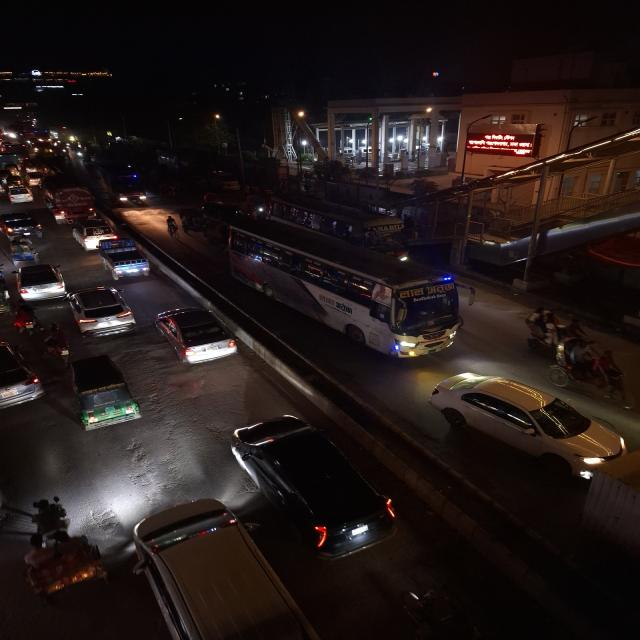bicycle: (165, 217, 182, 240)
bus: (222, 214, 469, 360), (269, 192, 414, 258)
car: (127, 496, 339, 640), (224, 412, 404, 560), (426, 367, 626, 481), (152, 303, 243, 368), (62, 284, 139, 336), (0, 336, 45, 414), (12, 261, 68, 301), (67, 217, 116, 249), (0, 211, 43, 239), (6, 185, 34, 205)
cng: (61, 354, 145, 434)
motorcycle: (21, 494, 73, 548), (520, 305, 576, 354), (37, 322, 73, 360), (11, 302, 41, 336)
pedestrian: (21, 493, 72, 549)
rickshaw: (550, 335, 640, 407), (19, 532, 108, 604), (7, 237, 41, 262)
truck: (95, 161, 150, 207), (41, 180, 104, 220), (95, 240, 155, 280)
